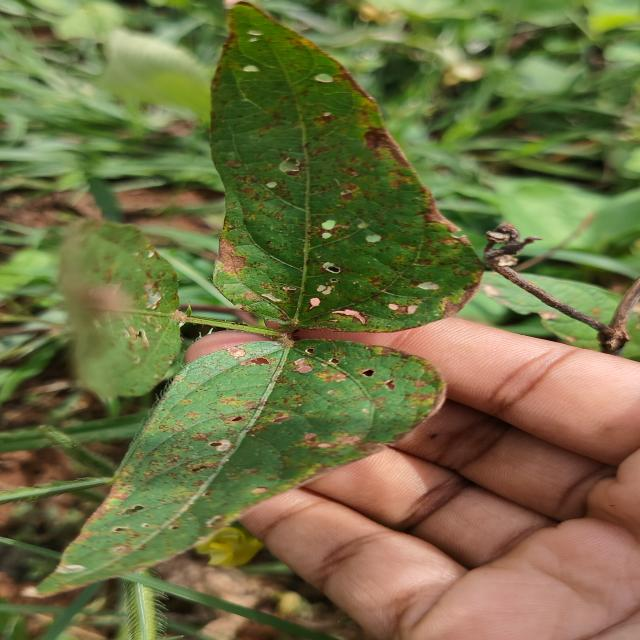Black gram_leaf spot: (29, 334, 447, 602), (205, 0, 476, 333)
